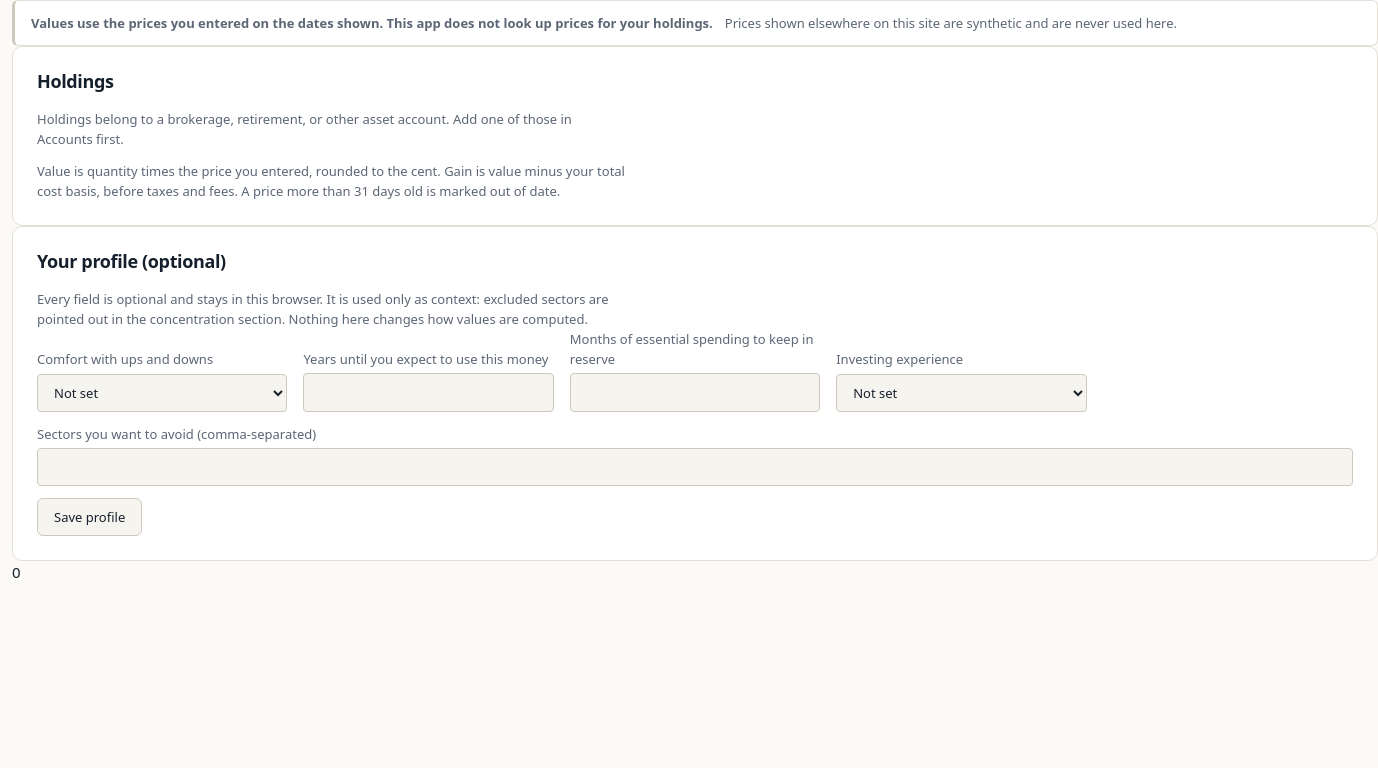
Test: HoldingsView › saves the optional profile
Type "Tobacco, Weapons" into the field labelled "Sectors you want to avoid (comma-separated)". click: (695, 467)
box: left=37, top=448, right=1353, bottom=486
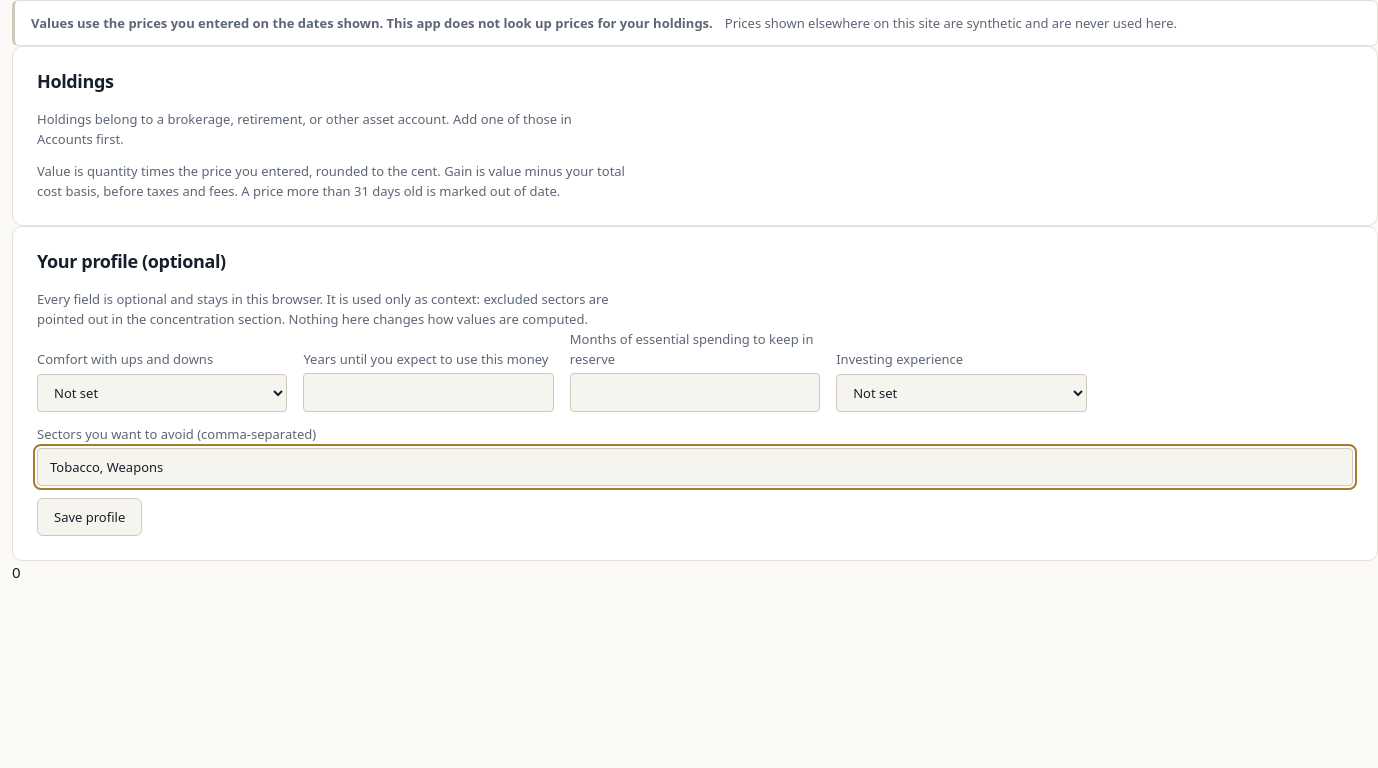
Select "Some" in the dropdown labelled "Investing experience". click: (961, 393)
box: left=836, top=374, right=1087, bottom=412
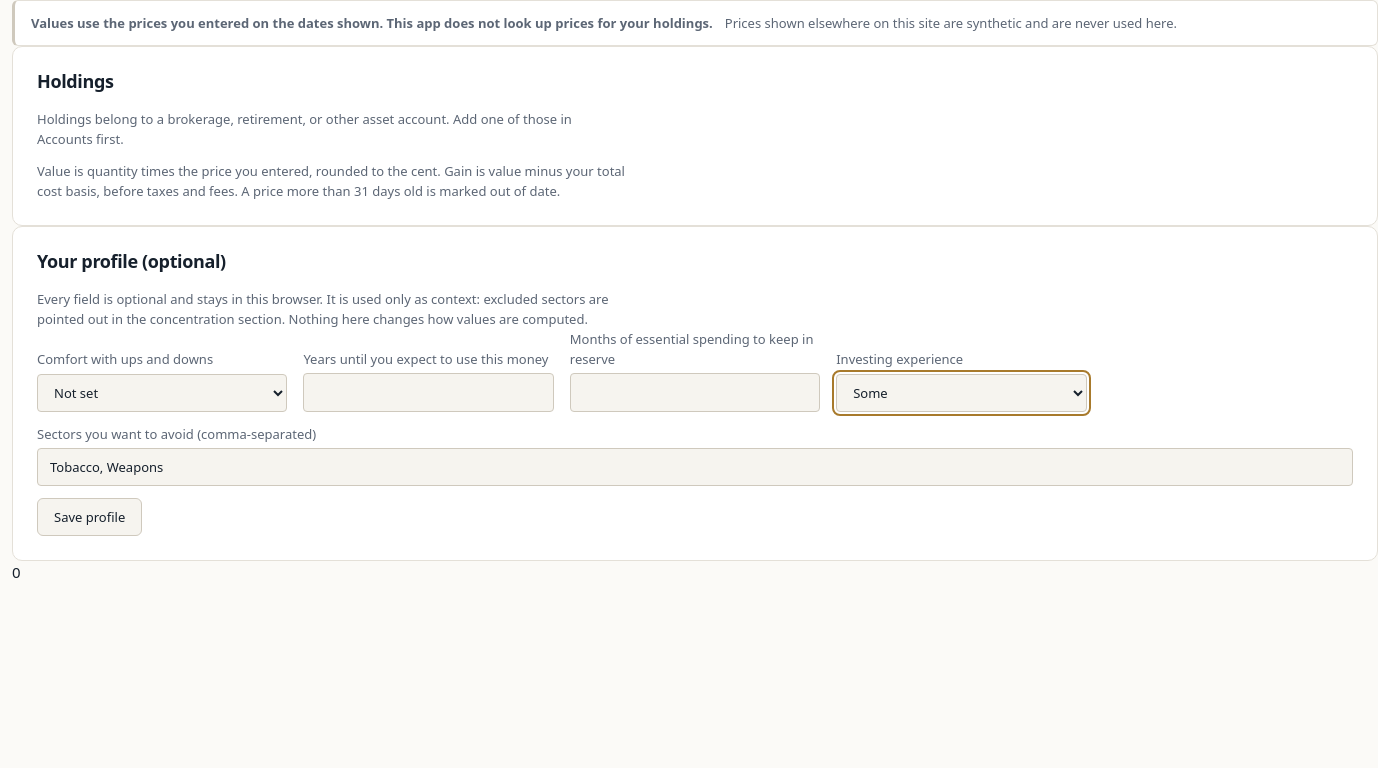
Click the button "Save profile". click: (90, 517)
box: left=37, top=498, right=142, bottom=536
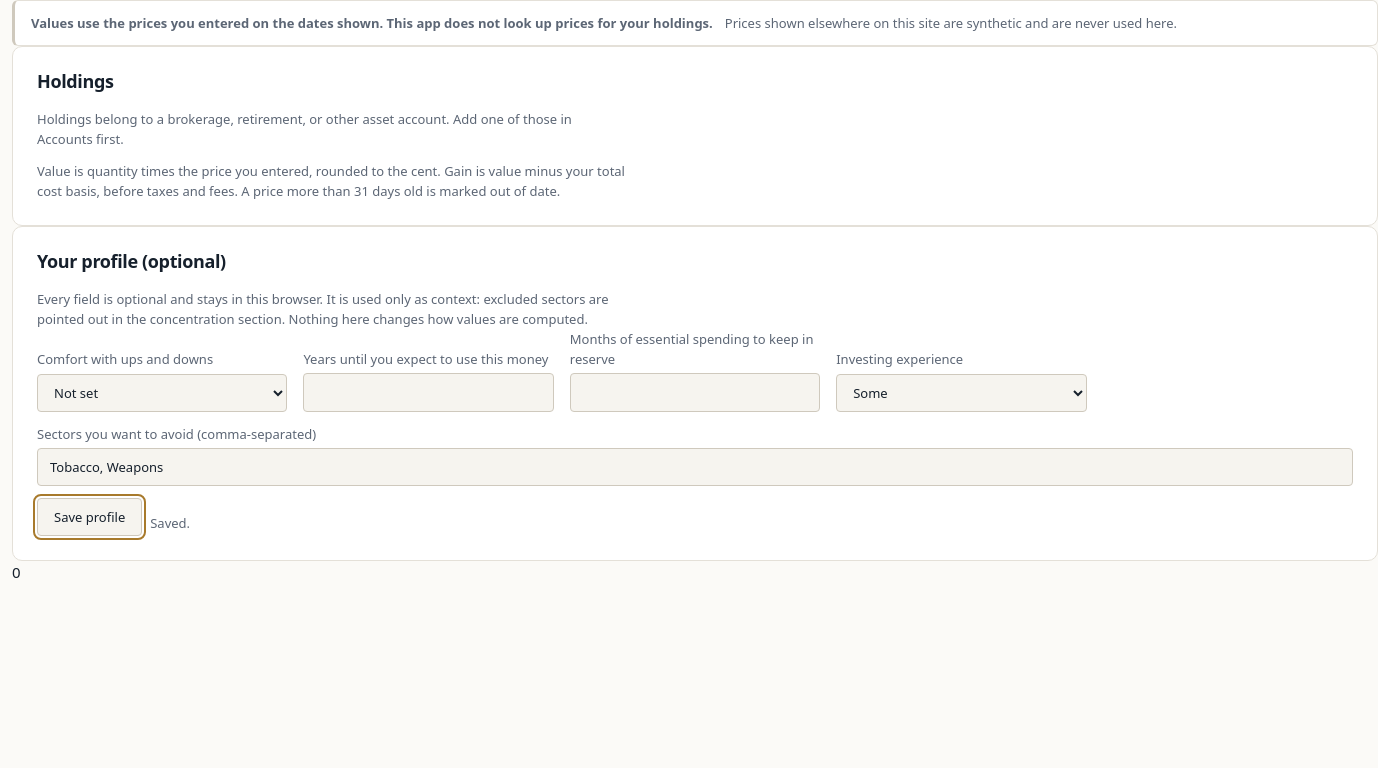
Expected: the text "Saved." is shown, left=150, top=513, right=190, bottom=533
